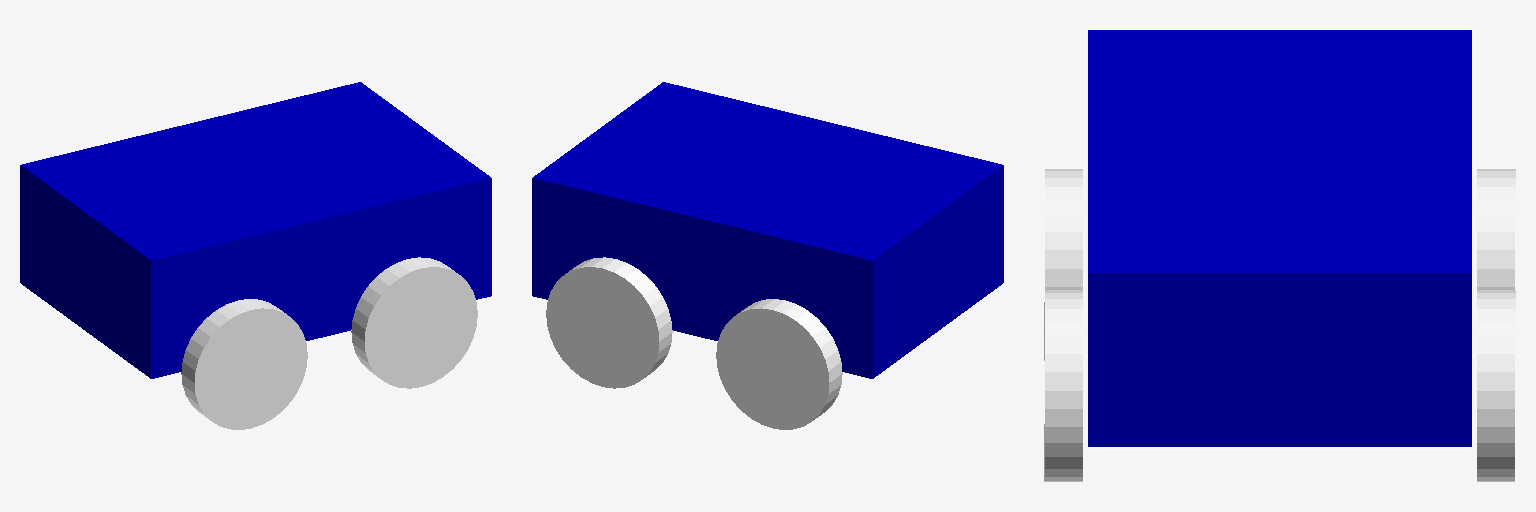
URDF robot description (simple_rover):
<?xml version="1.0"?>
<robot name="simple_rover">

<material name='blue'>
	<color rgba='0 0 0.8 1'/>
</material>

<material name='white'>
	<color rgba='1 1 1 1'/>
</material>

  <link name="base_link">
    <visual>
      <geometry>
        <box size="0.6 0.4 0.2"/>
      </geometry>
      <origin xyz="0 0 0.1" rpy="0 0 0" />
      <material name='blue'/>
    </visual>

    <collision>
      <geometry>
        <box size="0.6 0.4 0.2"/>
      </geometry>
    </collision>

    <inertial>
      <mass value="0.5"/>
      <origin rpy="0 0 0" xyz="0 0 0"/>
      <inertia ixx="0.0008333333333333335" ixy="0" ixz="0" iyy="0.0008333333333333335" iyz="0" izz="0.0008333333333333335"/>
    </inertial>
  </link>

  <link name="back_right_wheel">
    <visual>
      <geometry>
        <cylinder length='0.04' radius='0.1'/>
      </geometry>
      <origin xyz="0 0 0" rpy="1.57 0 0" />
      <material name='white'/>
    </visual>

    <collision>
      <geometry>
        <cylinder length='0.04' radius='0.1'/>
      </geometry>
    </collision>

    <inertial>
      <mass value="0.5"/>
      <origin rpy="0 0 0" xyz="0 0 0"/>
      <inertia ixx="0.0008333333333333335" ixy="0" ixz="0" iyy="0.0008333333333333335" iyz="0" izz="0.0008333333333333335"/>
    </inertial>
  </link>

  <link name="back_left_wheel">
    <visual>
      <geometry>
        <cylinder length='0.04' radius='0.1'/>
      </geometry>
      <origin xyz="0 0 0" rpy="1.57 0 0" />
      <material name='white'/>
    </visual>

    <collision>
      <geometry>
        <cylinder length='0.04' radius='0.1'/>
      </geometry>
    </collision>

    <inertial>
      <mass value="0.5"/>
      <origin rpy="0 0 0" xyz="0 0 0"/>
      <inertia ixx="0.0008333333333333335" ixy="0" ixz="0" iyy="0.0008333333333333335" iyz="0" izz="0.0008333333333333335"/>
    </inertial>
  </link>

  <link name="front_left_wheel">
    <visual>
      <geometry>
        <cylinder length='0.04' radius='0.1'/>
      </geometry>
      <origin xyz="0 0 0" rpy="1.57 0 0" />
      <material name='white'/>
    </visual>

    <collision>
      <geometry>
        <cylinder length='0.04' radius='0.1'/>
      </geometry>
    </collision>

    <inertial>
      <mass value="0.5"/>
      <origin rpy="0 0 0" xyz="0 0 0"/>
      <inertia ixx="0.0008333333333333335" ixy="0" ixz="0" iyy="0.0008333333333333335" iyz="0" izz="0.0008333333333333335"/>
    </inertial>
  </link>

  <link name="front_right_wheel">
    <visual>
      <geometry>
        <cylinder length='0.04' radius='0.1'/>
      </geometry>
      <origin xyz="0 0 0" rpy="1.57 0 0" />
      <material name='white'/>
    </visual>

    <collision>
      <geometry>
        <cylinder length='0.04' radius='0.1'/>
      </geometry>
    </collision>

    <inertial>
      <mass value="0.5"/>
      <origin rpy="0 0 0" xyz="0 0 0"/>
      <inertia ixx="0.0008333333333333335" ixy="0" ixz="0" iyy="0.0008333333333333335" iyz="0" izz="0.0008333333333333335"/>
    </inertial>
  </link>

  <joint name="back_right_wheel_joint" type="continuous">
    <parent link = "base_link"/>
    <child link = "back_right_wheel"/>
    <origin xyz="-0.15 -0.225 0"/>
    <axis xyz="0 1 0"/>
    <dynamics damping="0.1" friction="0.05"/>
  </joint>

  <joint name="back_left_wheel_joint" type="continuous">
    <parent link = "base_link"/>
    <child link = "back_left_wheel"/>
    <origin xyz="-0.15 0.225 0"/>
    <axis xyz="0 1 0"/>
    <dynamics damping="0.1" friction="0.05"/>
  </joint>

  <joint name="front_left_wheel_joint" type="continuous">
    <parent link = "base_link"/>
    <child link = "front_left_wheel"/>
    <origin xyz="0.15 0.225 0"/>
    <axis xyz="0 1 0"/>
    <dynamics damping="0.1" friction="0.05"/>
  </joint>

  <joint name="front_right_wheel_joint" type="continuous">
    <parent link = "base_link"/>
    <child link = "front_right_wheel"/>
    <origin xyz="0.15 -0.225 0"/>
    <axis xyz="0 1 0"/>
    <dynamics damping="0.1" friction="0.05"/>
  </joint>

<!-- PLUGINS -->

  <!-- JOINT PUBLISHER -->
  <gazebo>
    <plugin name="box_bot_joint_state" filename="libgazebo_ros_joint_state_publisher.so">
      <ros>
          <remapping>~/out:=joint_states</remapping>
      </ros>
      <update_rate>30</update_rate>

      <joint_name>front_left_wheel_joint</joint_name>
      <joint_name>front_right_wheel_joint</joint_name>
      <joint_name>back_left_wheel_joint</joint_name>
      <joint_name>back_right_wheel_joint</joint_name>
      
    </plugin>
  </gazebo>

  <!-- Differential drive -->
  <gazebo>
    <plugin filename="libgazebo_ros_diff_drive.so" name="differential_drive_controller">

      <!-- wheels -->
      <front_left_joint>front_left_wheel_joint</front_left_joint>
      <front_right_joint>front_right_wheel_joint</front_right_joint>
      <back_left_joint>front_left_wheel_joint</back_left_joint>
      <back_right_joint>front_right_wheel_joint</back_right_joint>

      <!-- kinematics -->
      <wheel_separation>0.1</wheel_separation>
      <wheel_diameter>0.07</wheel_diameter>

      <!-- limits -->
      <max_wheel_torque>1.0</max_wheel_torque>
      <max_wheel_acceleration>2.0</max_wheel_acceleration>

      <!-- output -->
      <publish_odom>true</publish_odom>
      <publish_odom_tf>true</publish_odom_tf>

      <odometry_frame>odom</odometry_frame>
      <robot_base_frame>base_link</robot_base_frame>

    </plugin>
  </gazebo>

</robot>

--- Facts derived from the render (not from the file) ---
3 views of the same robot in one strip: view 1: azimuth 30°, elevation 25°; view 2: azimuth 150°, elevation 25°; view 3: azimuth 270°, elevation 25° (orthographic).
Model simple_rover with 5 links and 4 joints (4 continuous), rooted at base_link, posed all joints at 0.
Links seen in each view (by area): view 1: base_link, back_right_wheel, front_right_wheel; view 2: base_link, back_left_wheel, front_left_wheel; view 3: base_link, front_left_wheel, front_right_wheel, back_right_wheel, back_left_wheel.
Boxes of the visible links, x1,y1,x2,y2 form: base_link: [20, 82, 491, 378]; back_right_wheel: [181, 299, 307, 429]; front_right_wheel: [351, 257, 477, 388]; base_link: [532, 82, 1003, 378]; back_left_wheel: [716, 299, 842, 429]; front_left_wheel: [546, 257, 672, 388]; base_link: [1088, 30, 1471, 446]; front_left_wheel: [1477, 290, 1515, 481]; front_right_wheel: [1044, 290, 1082, 481]; back_right_wheel: [1044, 169, 1082, 360]; back_left_wheel: [1477, 169, 1515, 289].
Size in the robot's own frame: 0.6 by 0.4902 by 0.3 metres.
Geometry: primitives only (box / cylinder / sphere), no mesh files.